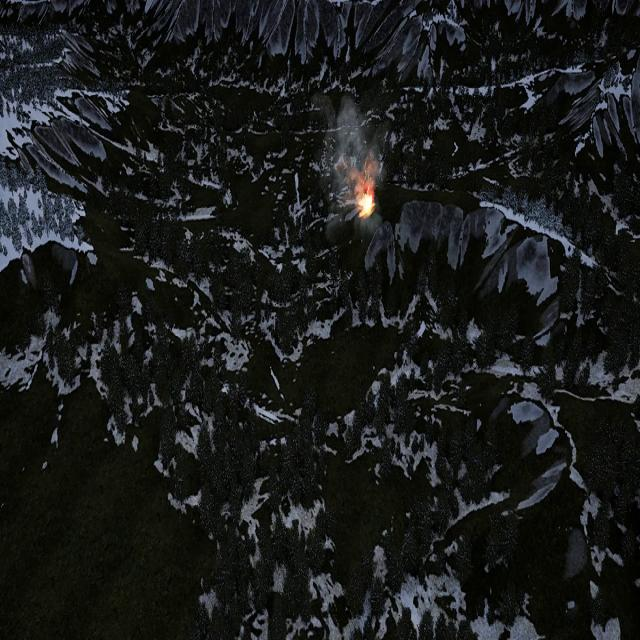fire: (357, 190, 374, 217)
smoke: (309, 88, 381, 236)
